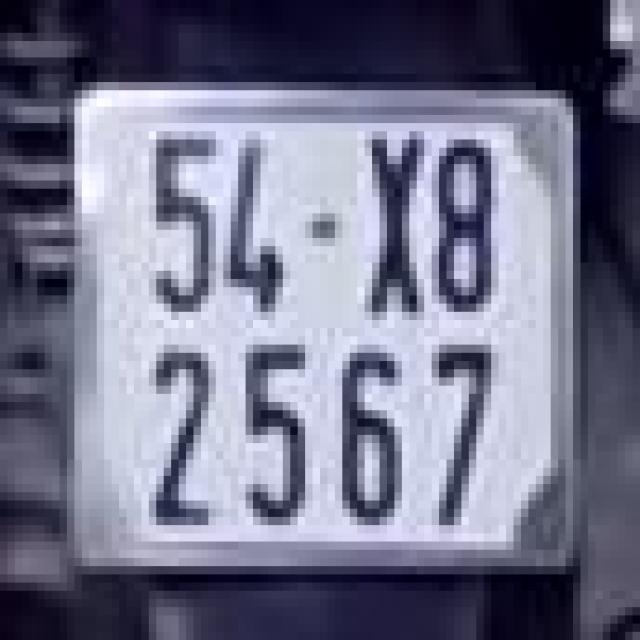2: (138, 336, 227, 534)
4: (223, 119, 305, 332)
5: (130, 123, 227, 328), (230, 336, 312, 534)
6: (331, 332, 413, 530)
7: (417, 324, 506, 529)
8: (428, 127, 510, 324)
X: (346, 115, 435, 336)
